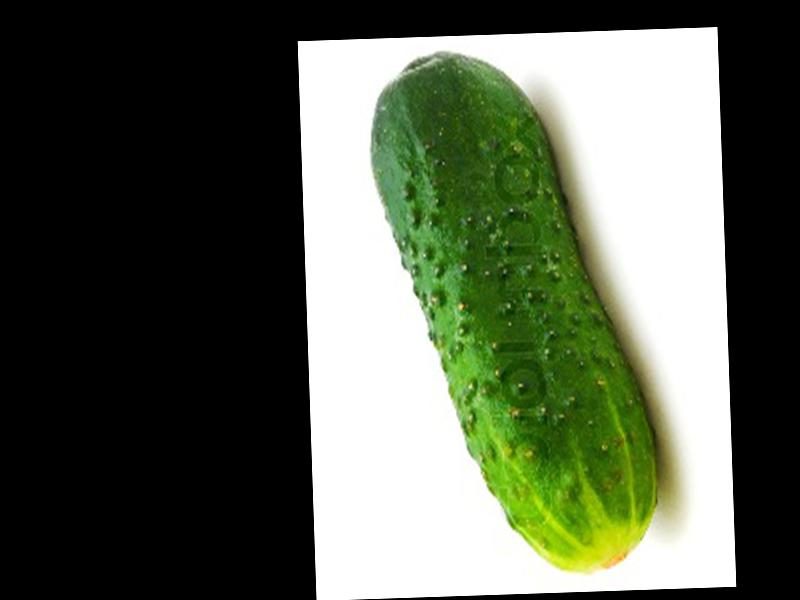Cucumber: (367, 48, 662, 580)
